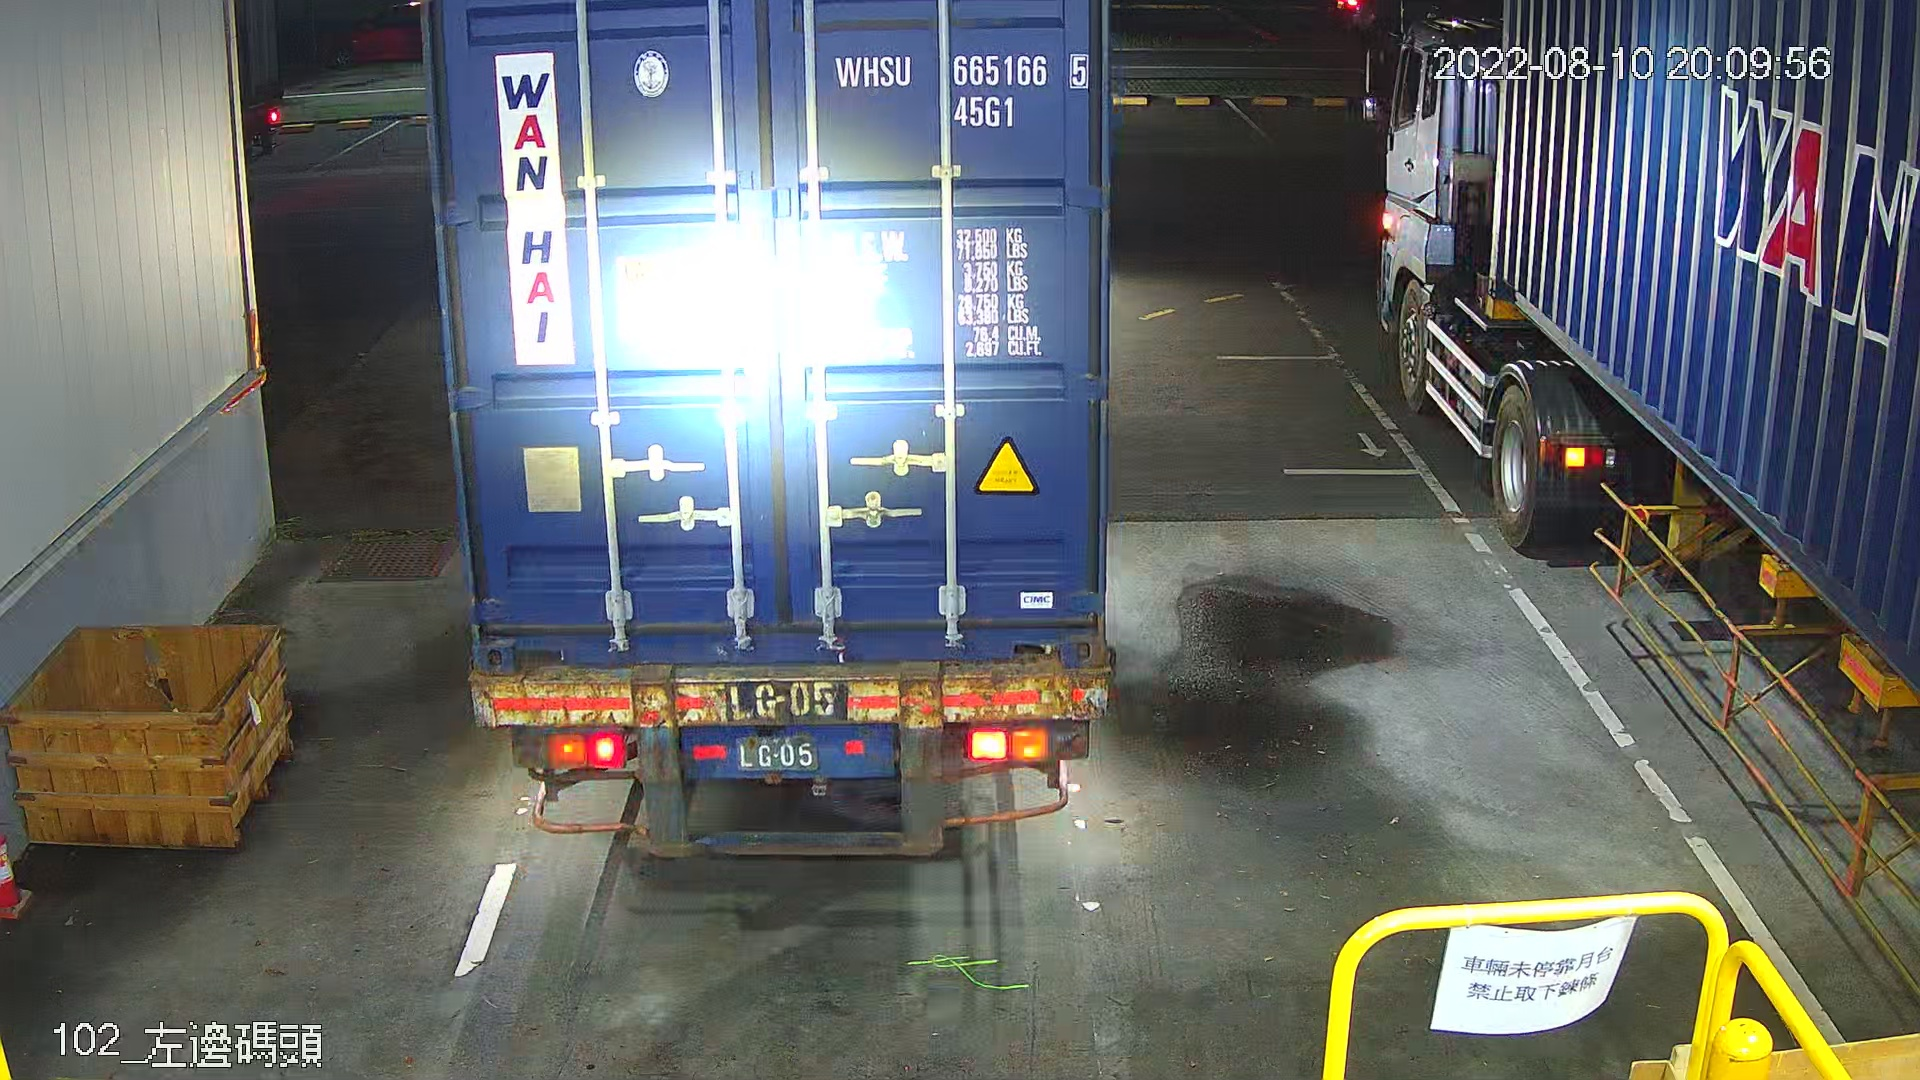container: (820, 40, 1097, 136)
